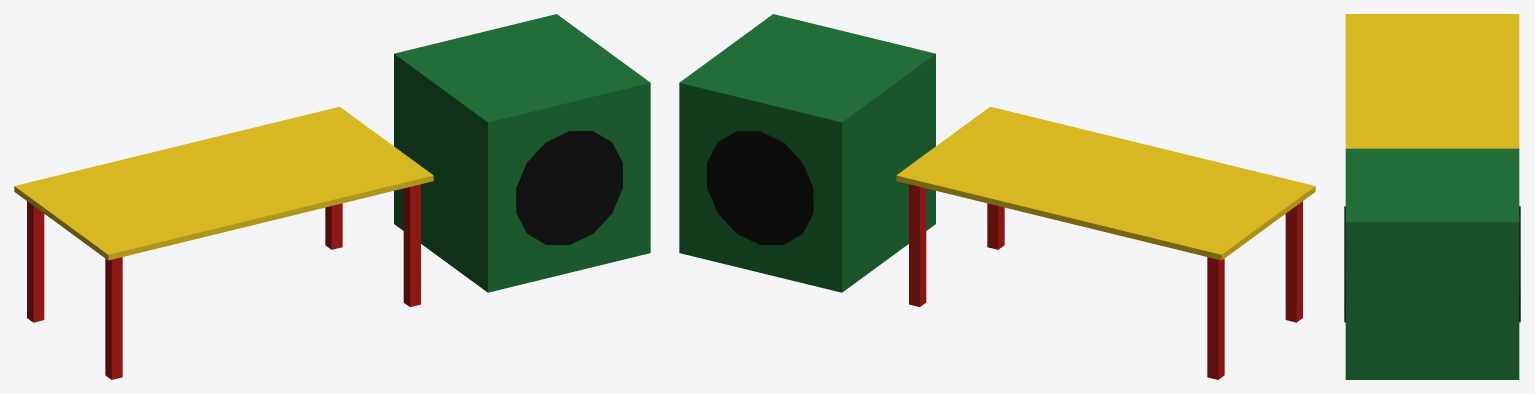
File: school.play.nursery_kit.glb
The picture shows the model from 3 angles, left to right: view 1: azimuth 30°, elevation 25°; view 2: azimuth 150°, elevation 25°; view 3: azimuth 270°, elevation 25°; orthographic projection. The views are drawn at different scales.
Visible parts, largest first — view 1: main__plastic_green, main__plastic_yellow, main__plastic_black, main__plastic_red; view 2: main__plastic_green, main__plastic_yellow, main__plastic_black, main__plastic_red; view 3: main__plastic_green, main__plastic_yellow, main__plastic_black.
Part boxes in pixels (left/top/right/bottom): main__plastic_green: left=394, top=14, right=650, bottom=292; main__plastic_yellow: left=14, top=106, right=433, bottom=260; main__plastic_black: left=516, top=131, right=622, bottom=244; main__plastic_red: left=27, top=184, right=420, bottom=379; main__plastic_green: left=679, top=14, right=935, bottom=292; main__plastic_yellow: left=896, top=106, right=1315, bottom=260; main__plastic_black: left=707, top=131, right=813, bottom=244; main__plastic_red: left=909, top=184, right=1302, bottom=379; main__plastic_green: left=1345, top=148, right=1519, bottom=379; main__plastic_yellow: left=1345, top=14, right=1519, bottom=148; main__plastic_black: left=1344, top=206, right=1520, bottom=322.
Bounding box in the file's own units: 2 × 0.6 × 0.608.
